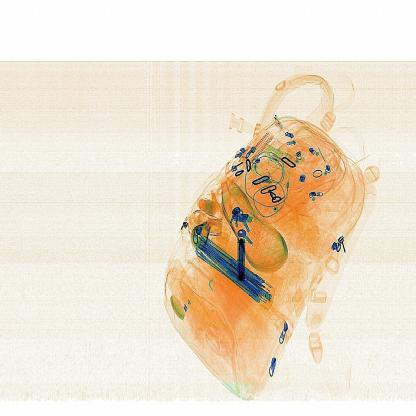scissors: (232, 227, 254, 296)
